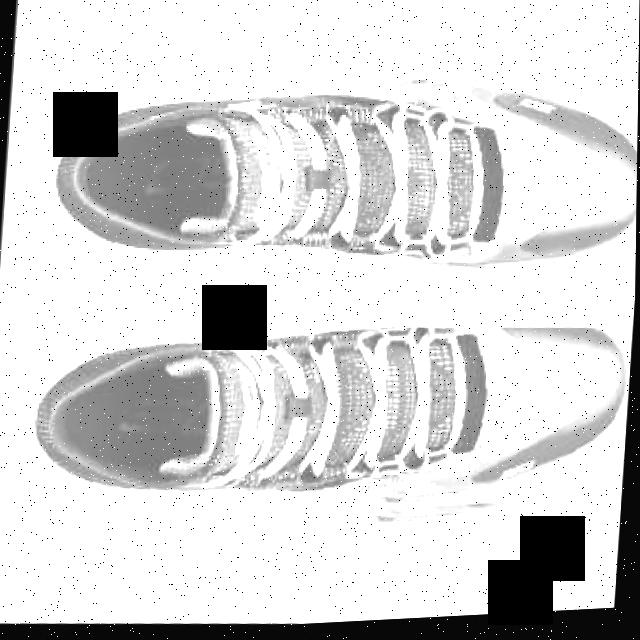shoe: (18, 303, 635, 560), (34, 54, 639, 309)
